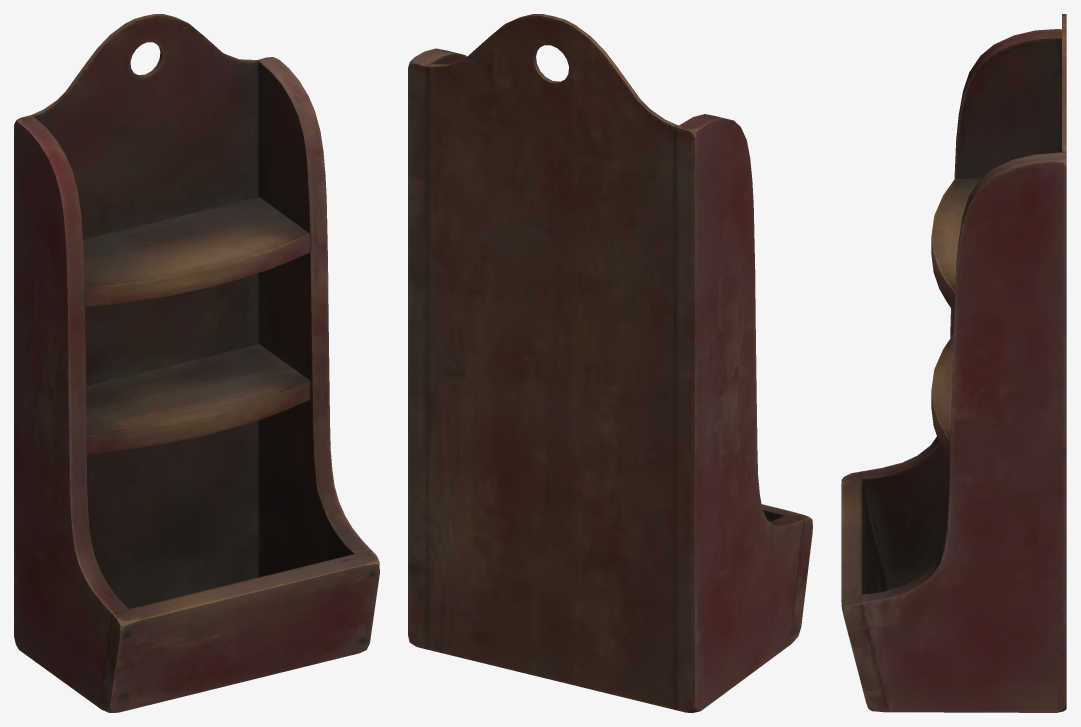
Rendered from painted_wooden_shelves.glb.
3 renders of one model, left to right at view 1: azimuth 30°, elevation 25°; view 2: azimuth 150°, elevation 25°; view 3: azimuth 270°, elevation 25°, orthographic. The views are drawn at different scales.
Parts seen in each view (by area): view 1: painted_wooden_shelves; view 2: painted_wooden_shelves; view 3: painted_wooden_shelves.
Boxes of the visible parts, bbox=[...] form: painted_wooden_shelves: bbox=[14, 14, 379, 712]; painted_wooden_shelves: bbox=[408, 14, 812, 712]; painted_wooden_shelves: bbox=[841, 14, 1066, 712].
Size of the model in its own units: 0.5111 by 1.13 by 0.3671.
1 material, 1 textured.
